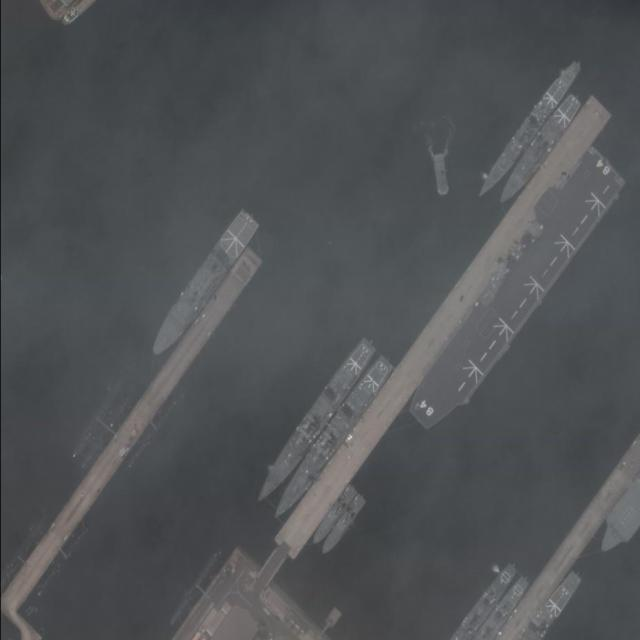Auxiliary Ships: (144, 209, 261, 361), (492, 91, 584, 208)
Destroyer: (404, 142, 637, 436), (264, 352, 398, 526), (248, 334, 381, 509), (471, 57, 586, 202)
Dock: (255, 95, 616, 581), (1, 249, 265, 605)
Other Warship: (317, 493, 369, 559), (308, 484, 360, 549), (433, 152, 450, 196)
Submarine: (21, 520, 89, 617), (70, 378, 125, 460), (125, 391, 180, 468), (79, 394, 132, 471), (167, 552, 220, 628)
